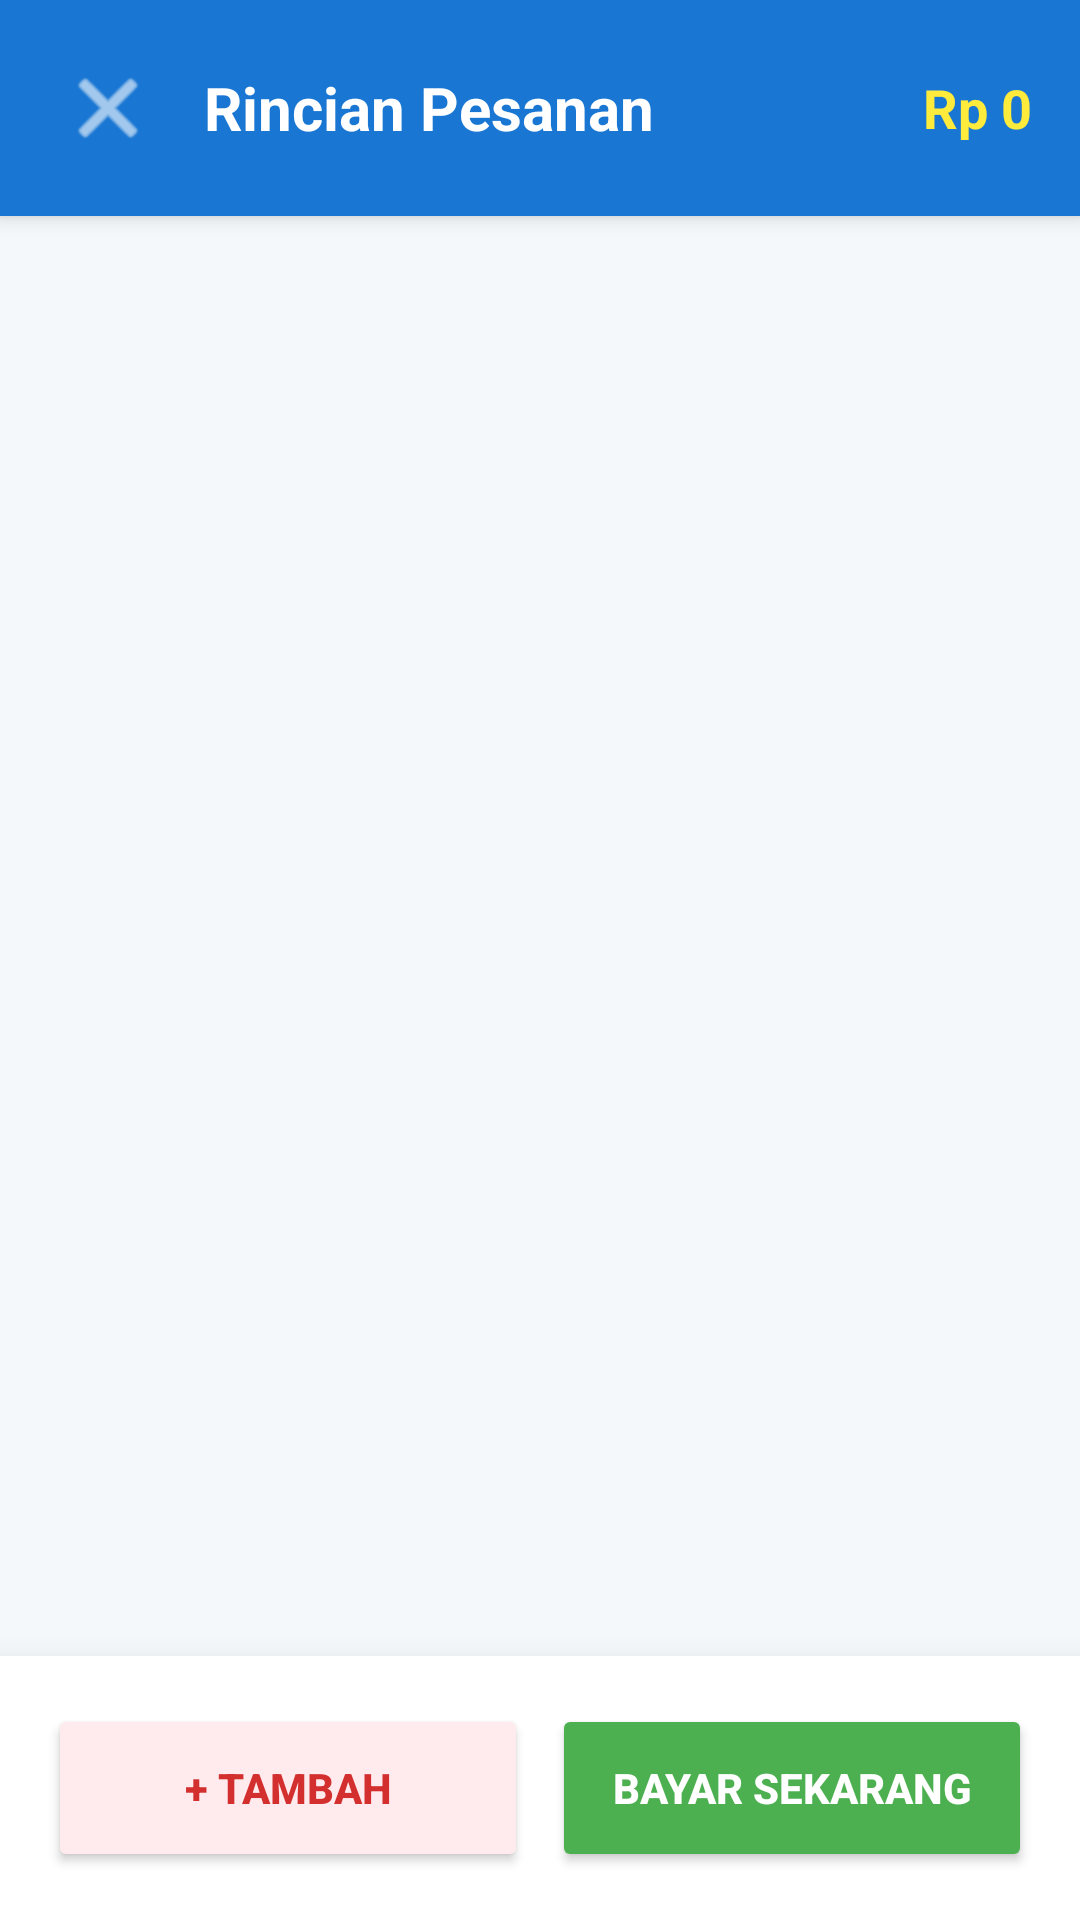

Where icons sit on this 1080 × 1920 app screen, as region(x1, y1, x2, y2):
close clear cancel: region(78, 78, 138, 138)
